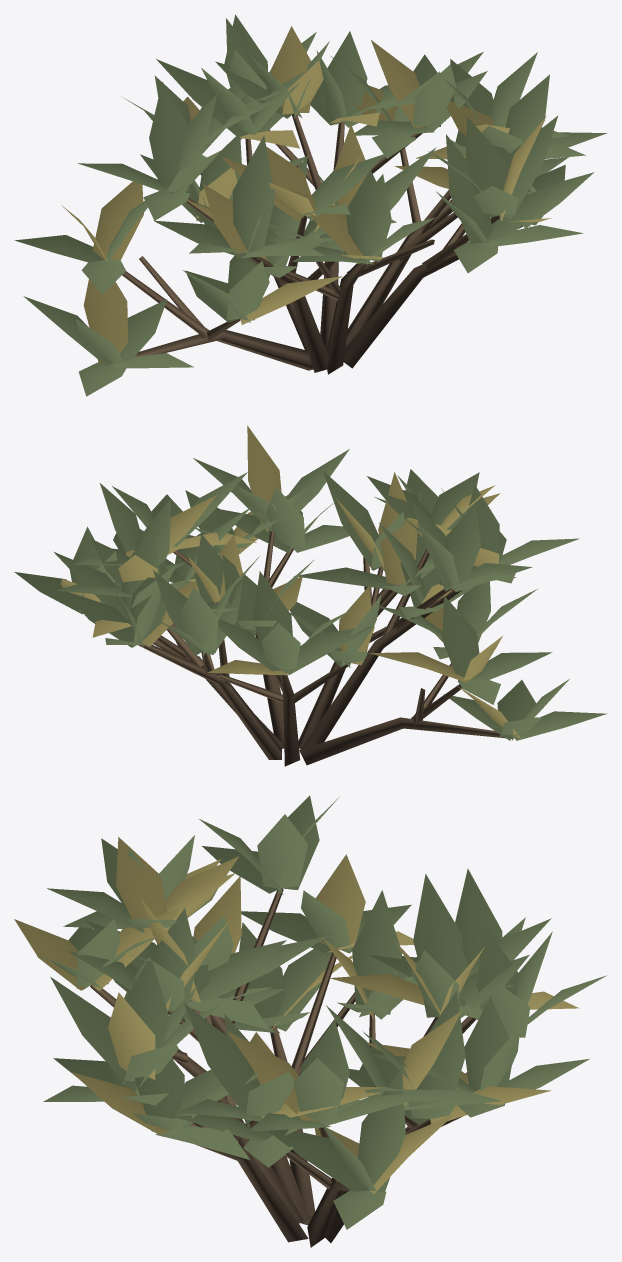
File: shrub_dry.glb
3 renders of one model, top to bottom at view 1: azimuth 30°, elevation 25°; view 2: azimuth 150°, elevation 25°; view 3: azimuth 270°, elevation 25°, orthographic. The views are drawn at different scales.
Parts seen in each view (by area): view 1: shrub_dry; view 2: shrub_dry; view 3: shrub_dry.
Boxes of the visible parts, x1,y1,x2,y2 form: shrub_dry: [14, 14, 607, 396]; shrub_dry: [14, 425, 607, 766]; shrub_dry: [14, 795, 606, 1247].
Size of the model in its own units: 2.45 by 1.24 by 1.86.
